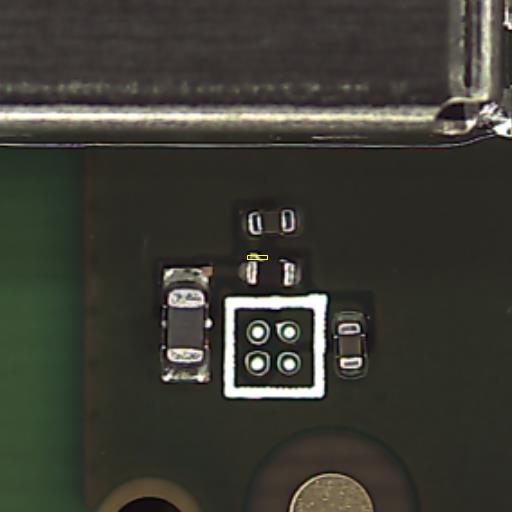bottom_layer: (161, 265, 211, 383), (333, 311, 368, 380), (239, 260, 301, 288), (241, 209, 302, 236)
top_layer: (166, 289, 205, 363), (338, 323, 363, 369), (247, 263, 295, 285), (249, 211, 295, 233)
